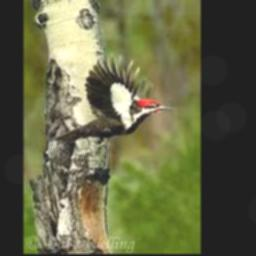Woodpecker: (51, 54, 176, 147)
